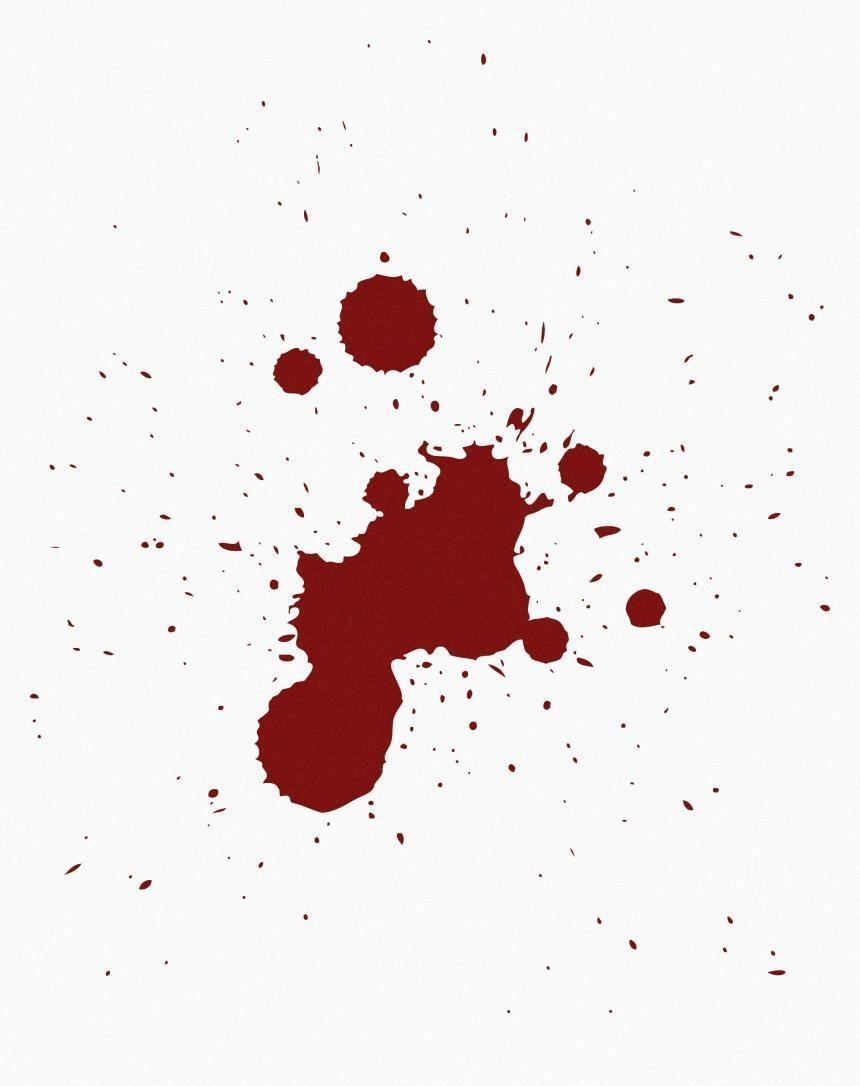Bloodstain-Detection: (256, 441, 558, 815), (335, 276, 439, 369), (275, 342, 324, 397)
